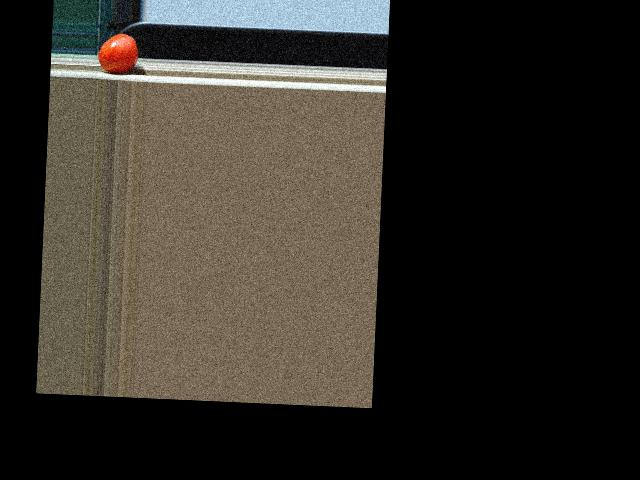tomato: (98, 32, 139, 73)
